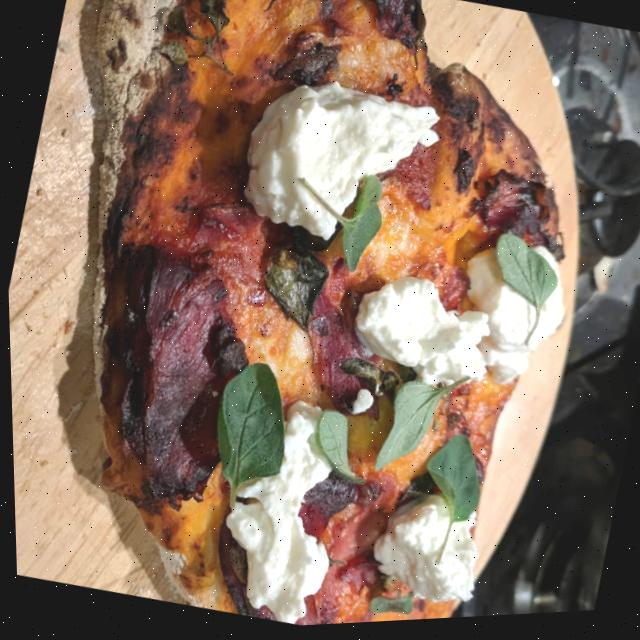basil: (194, 357, 300, 518), (278, 162, 391, 282), (401, 431, 490, 575), (367, 365, 468, 490), (472, 234, 565, 357), (252, 245, 332, 337), (302, 410, 375, 490), (331, 356, 400, 404), (362, 586, 411, 625)
pizza: (0, 0, 632, 640)
